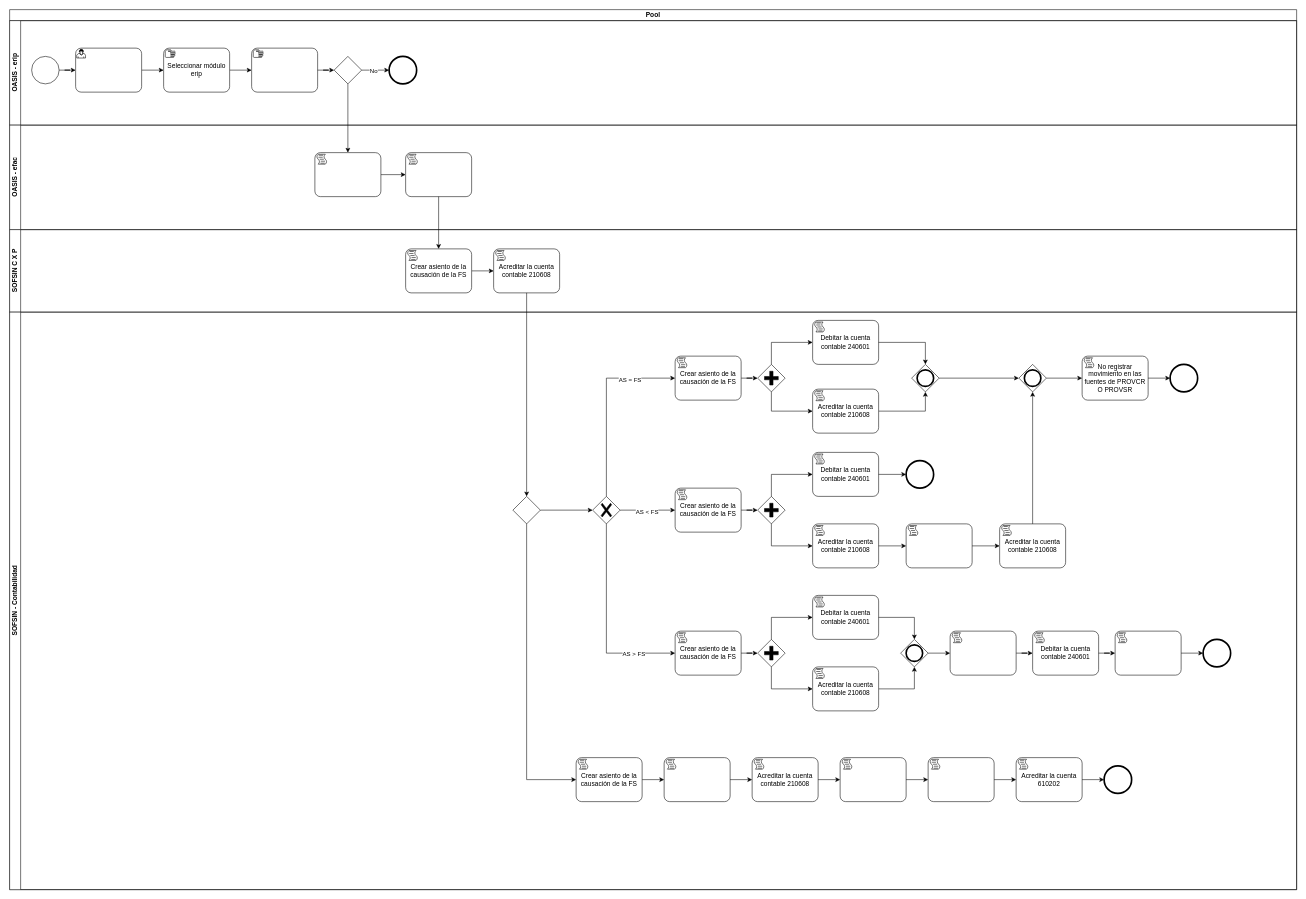
Image size: 1306x899. Some labels were removed from this diagram. Each missing label, with the centre of its shape:
"Acreditar la cuenta 610901" goes at [1148,653].
"Cargar RIPS" goes at [284,70].
"Debitar la cuenta 240601" goes at [961,779].
"Debitar la cuenta 610201 por la diferencia de lo autorizado vs facturado" goes at [939,545].
"Debitar la cuenta contable 610201" goes at [697,779].
"Ingresar a OASIS" goes at [108,70].
"Insertar facturas en estado ACTIVO" goes at [347,174].
"Procesar factura" goes at [438,174].
"Reversar diferencia de lo reservado vs el valor en la factura" goes at [983,653].
"Reversar valor total de la reserva tecnica con las fuentes PROVCR o PROVSR" goes at [873,779].
"¿AS mismo año de la FS?" goes at [526,510].
"¿Cumples con las validaciones?" goes at [348,70].
